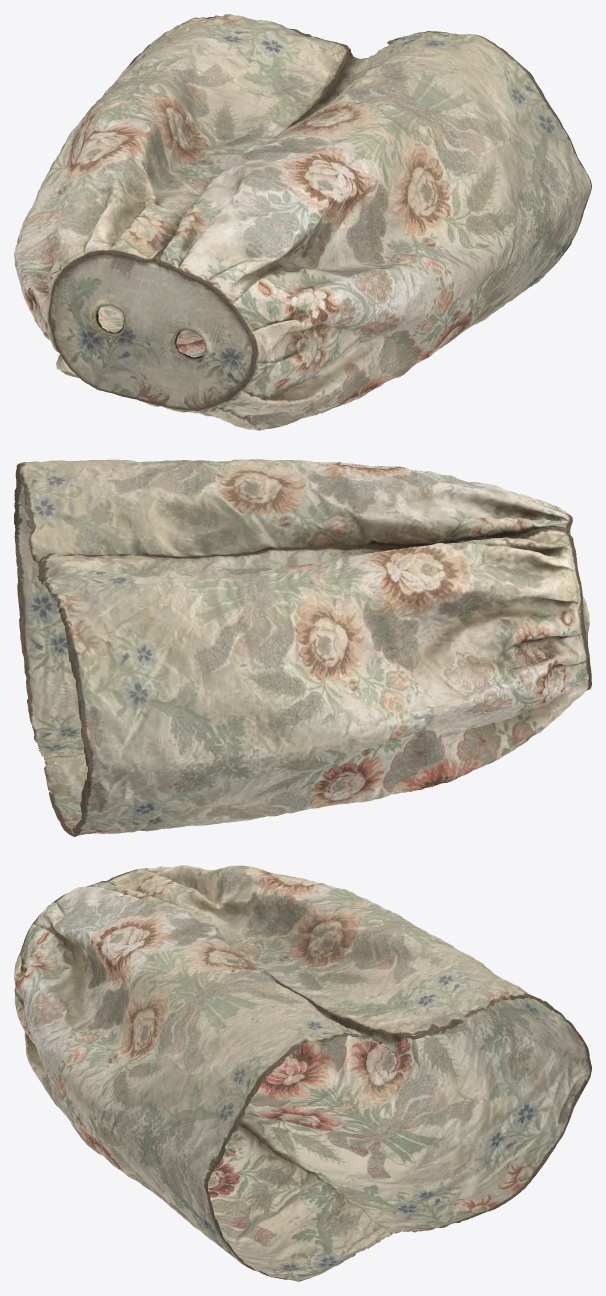
Rendered from preview.glb.
3 views of the same model, one above another, from view 1: azimuth 30°, elevation 25°; view 2: azimuth 150°, elevation 25°; view 3: azimuth 270°, elevation 25° (orthographic). The views are drawn at different scales.
Parts seen in each view (by area): view 1: Object_2; view 2: Object_2; view 3: Object_2.
Part boxes in pixels (box(x1,y1,x2,y2)): Object_2: box(14, 14, 591, 430); Object_2: box(14, 459, 591, 836); Object_2: box(14, 865, 591, 1281).
Size of the model in its own units: 0.4683 by 0.2143 by 0.4542.
Materials: 1 (1 with a texture image).
